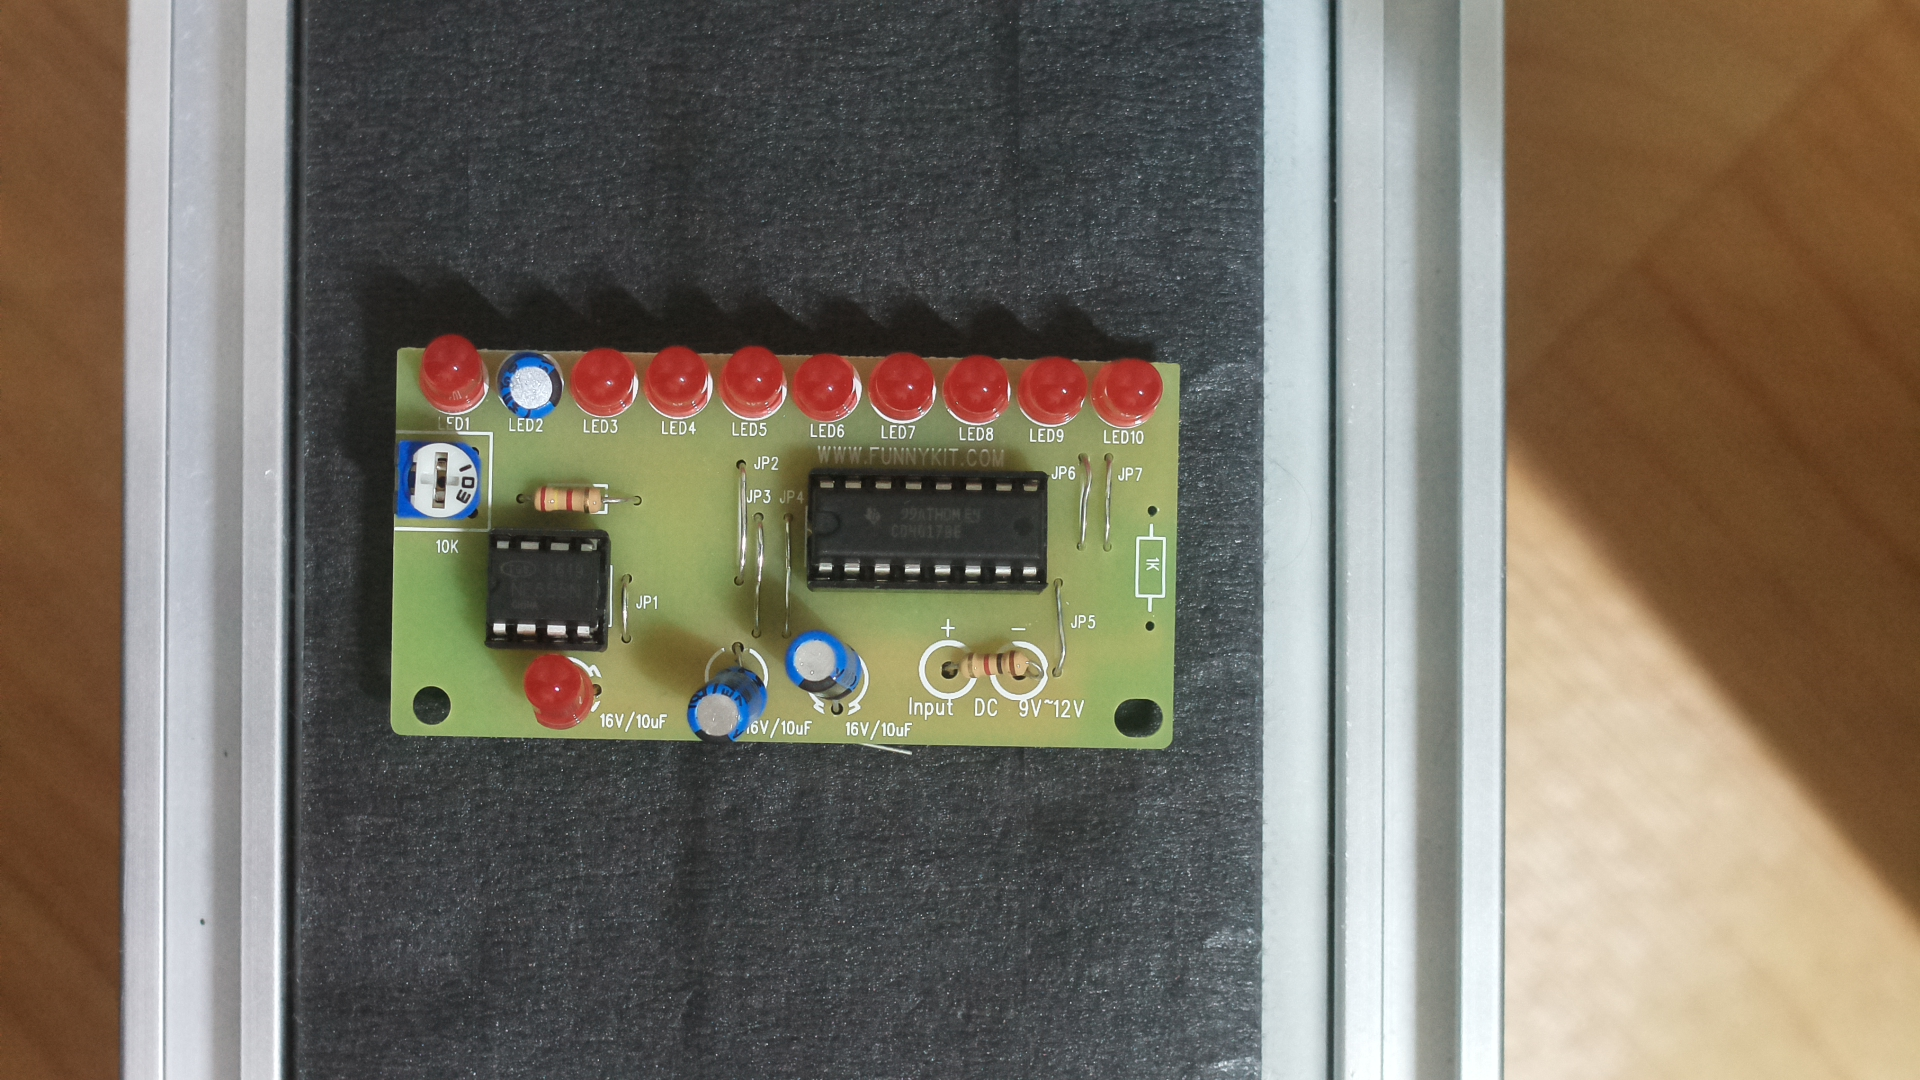B_Misordered: (372, 324, 1190, 777)
